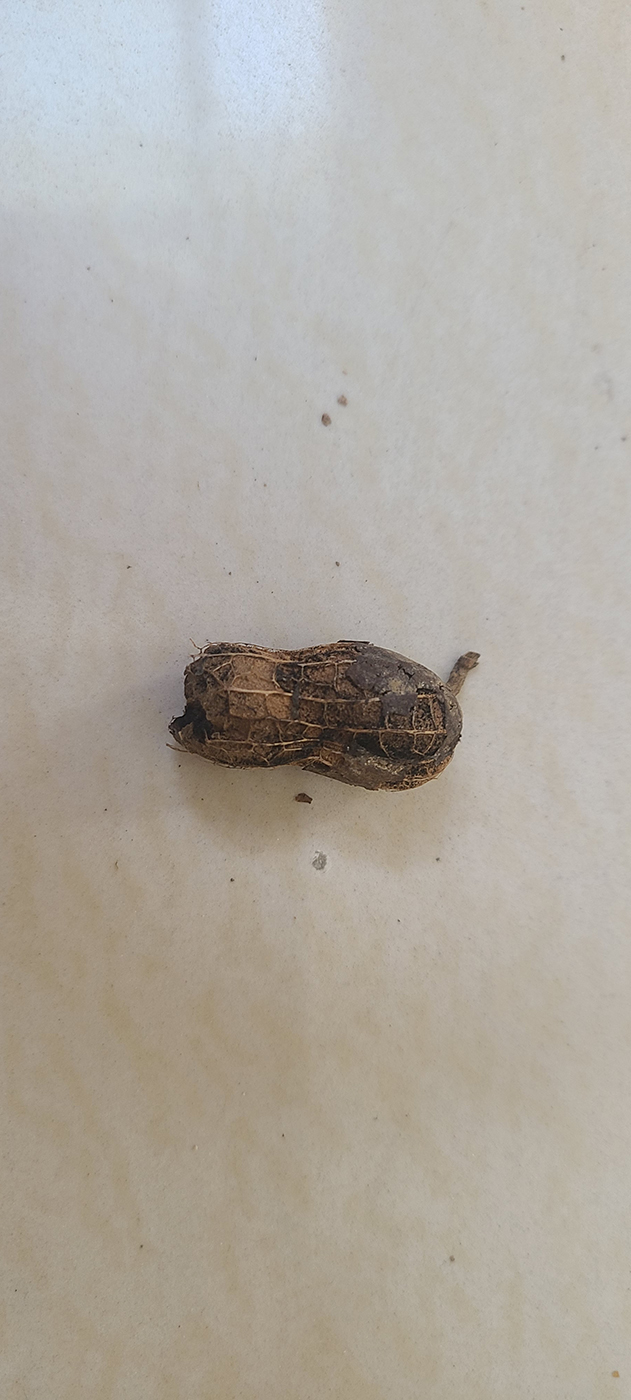l: (166, 637, 469, 796)
